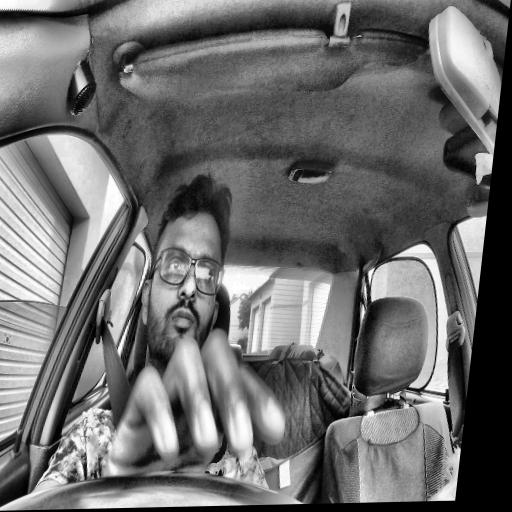awake: (133, 173, 237, 374)
